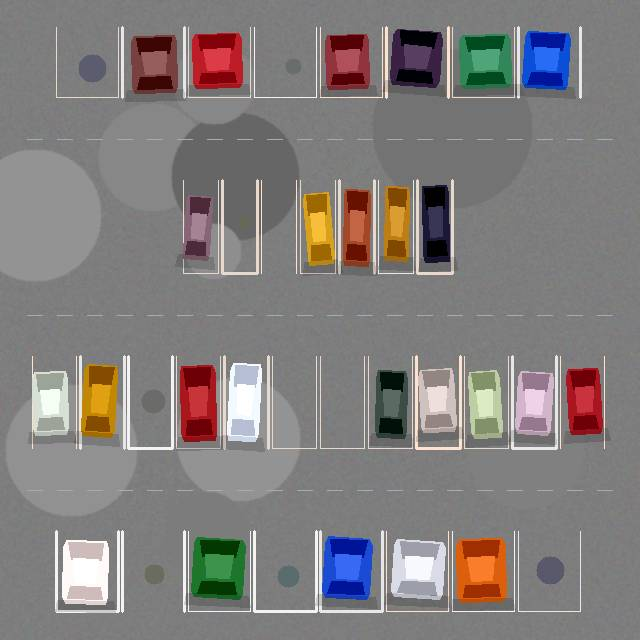space-empty: (122, 531, 184, 611), (254, 531, 316, 611), (518, 531, 580, 611), (56, 27, 118, 97), (254, 27, 316, 97), (128, 356, 172, 448), (272, 356, 316, 448), (320, 356, 364, 448), (222, 180, 257, 273), (261, 180, 296, 273)
space-occupied: (56, 531, 118, 611), (188, 531, 250, 611), (320, 531, 382, 611), (386, 531, 448, 611), (452, 531, 514, 611), (122, 27, 184, 97), (188, 27, 250, 97), (320, 27, 382, 97), (386, 27, 448, 97), (452, 27, 514, 97), (518, 27, 580, 97), (32, 356, 76, 448), (80, 356, 124, 448), (176, 356, 220, 448), (224, 356, 268, 448), (368, 356, 412, 448), (416, 356, 460, 448), (464, 356, 508, 448), (512, 356, 556, 448), (560, 356, 604, 448), (183, 180, 218, 273), (300, 180, 335, 273), (339, 180, 374, 273), (378, 180, 413, 273), (417, 180, 452, 273)
